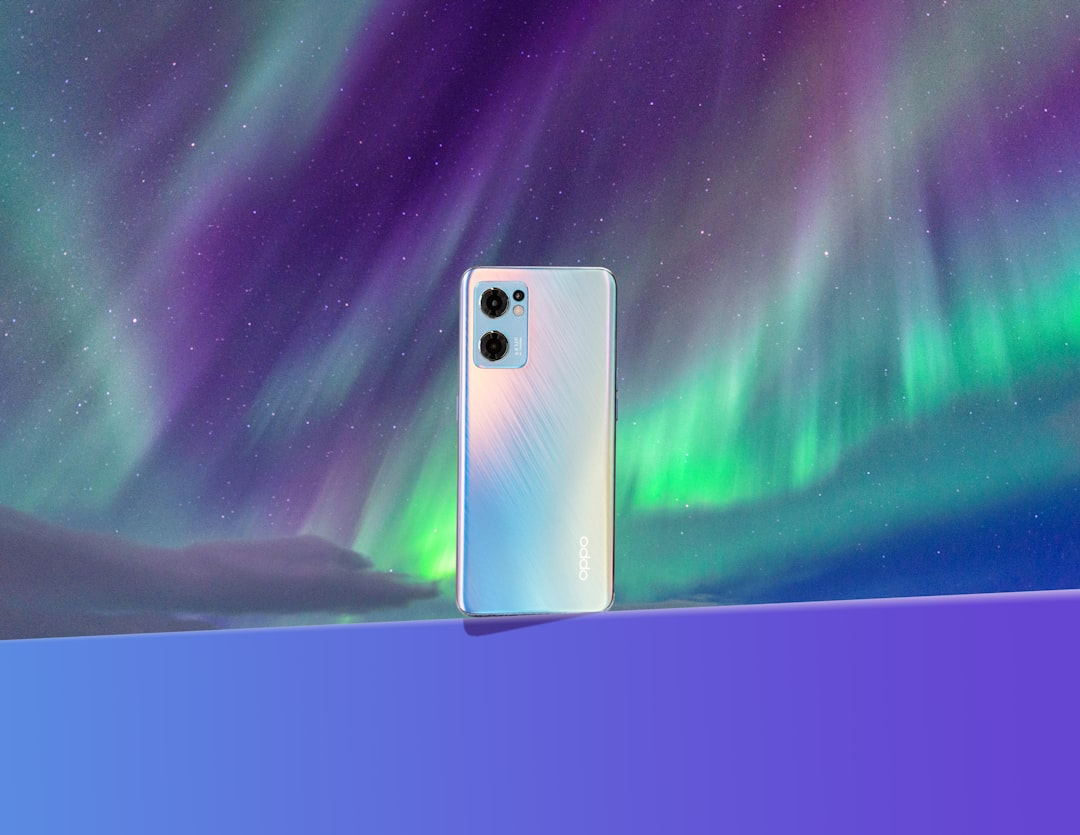phone: (458, 261, 616, 620)
